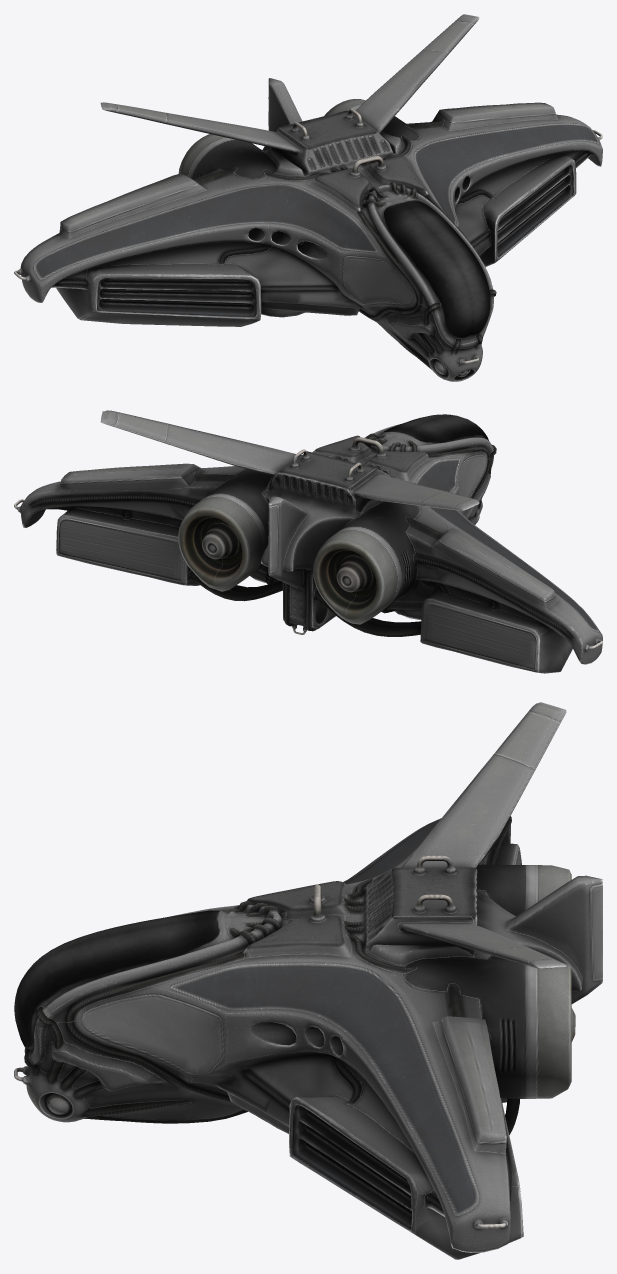
File: Intergalactic Spaceship_Blender_2.79b_BI.fbx
3 views of the same model, one above another, from view 1: azimuth 30°, elevation 25°; view 2: azimuth 150°, elevation 25°; view 3: azimuth 270°, elevation 25° (orthographic). The views are drawn at different scales.
Visible parts, largest first — view 1: Intergalactic Spaceship; view 2: Intergalactic Spaceship; view 3: Intergalactic Spaceship.
Part boxes in pixels (x1=…): Intergalactic Spaceship: x1=14, y1=14, x2=602, y2=381; Intergalactic Spaceship: x1=14, y1=410, x2=602, y2=673; Intergalactic Spaceship: x1=14, y1=702, x2=602, y2=1259.
Size of the model in its own units: 955 by 310 by 578.
Materials: 1 (1 with a texture image).
